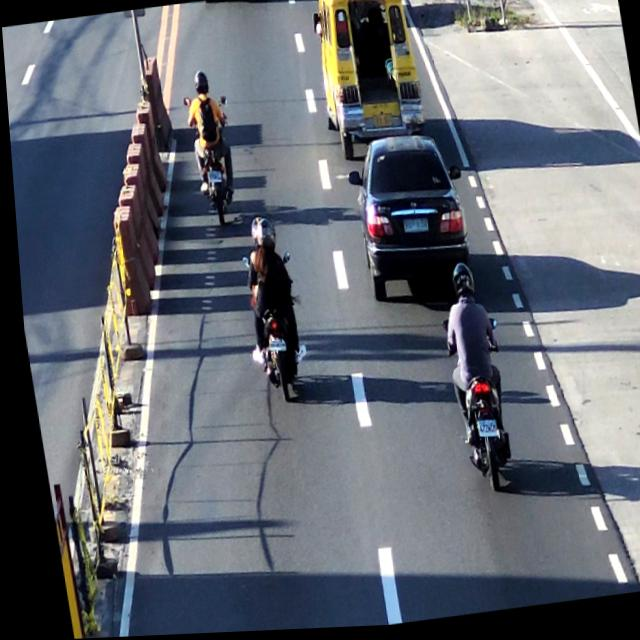Car: (340, 128, 470, 302)
Jeep: (304, 0, 424, 145)
License-Plate: (396, 219, 427, 238), (466, 420, 492, 442), (368, 115, 391, 133), (260, 335, 281, 354), (202, 169, 221, 186)
Motorcycle: (434, 264, 510, 501), (227, 223, 307, 401), (175, 73, 239, 219)
